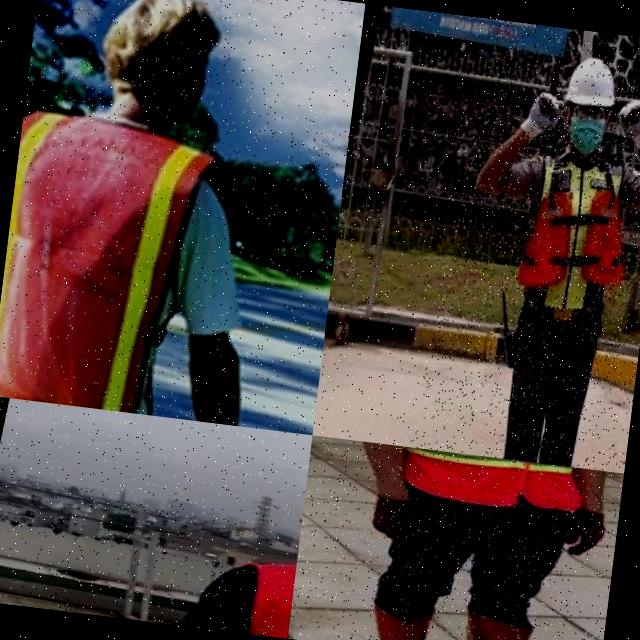boots: (447, 604, 575, 640), (359, 602, 451, 640)
helmet: (562, 50, 628, 112)
vest: (0, 87, 208, 417), (511, 143, 640, 317), (377, 444, 596, 526)
